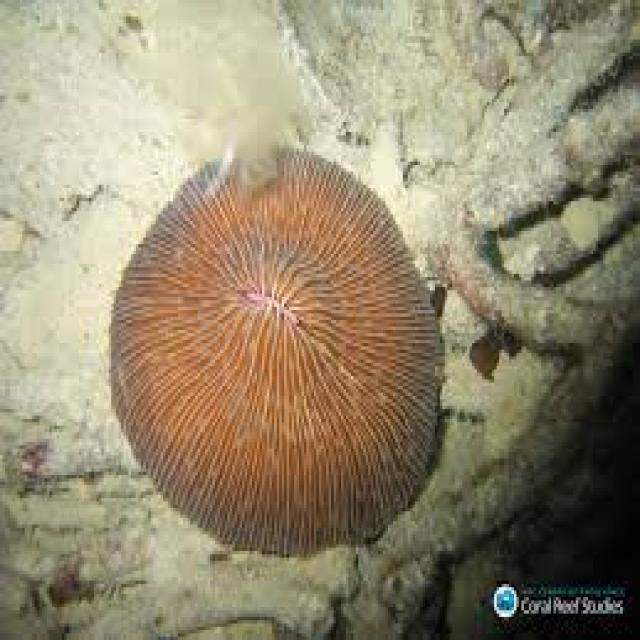Healthy Coral: (104, 115, 448, 555)
